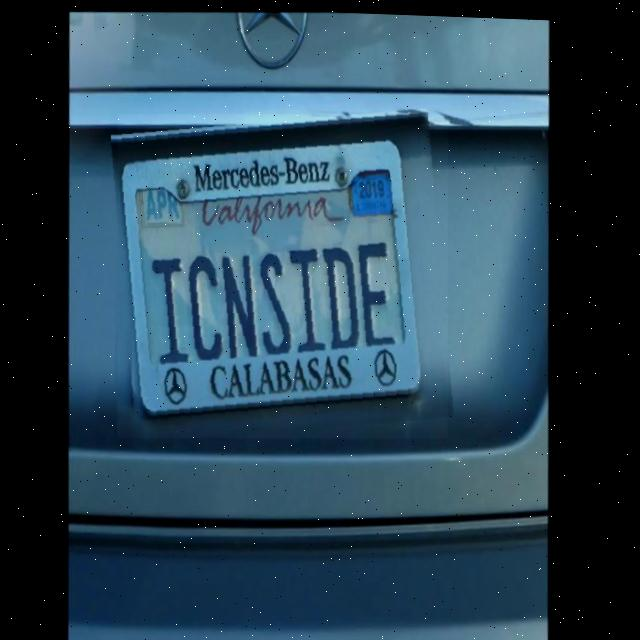LicensePlate: (109, 101, 460, 446)
